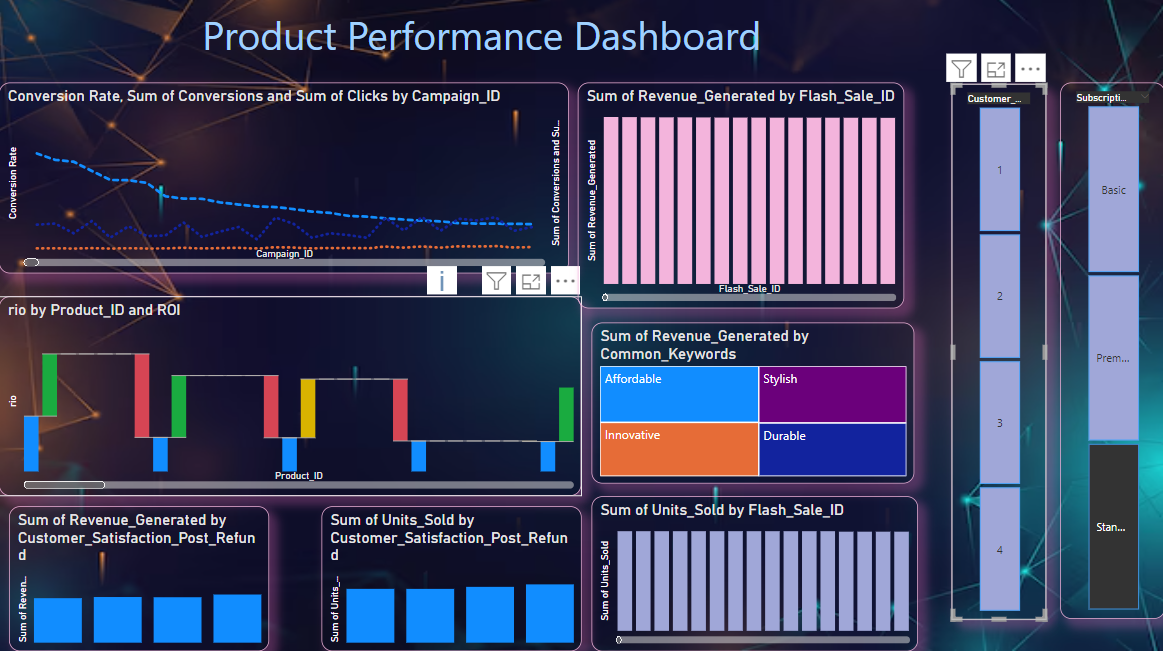

Layout of this report page (visuals, bound fields, positions):
{"tool":"powerbi","page":{"name":"Page 1","canvas":[1280,720],"ordinal":0},"visuals":[{"type":"lineChart","fields":{"Category":["marketing_and_product_performance.Campaign_ID"],"Y":["marketing_and_product_performance.Conversion Rate"],"Y2":["Sum(marketing_and_product_performance.Conversions)","Sum(marketing_and_product_performance.Clicks)"]},"box":[0,96.1,625.7,209.9],"z":0},{"type":"waterfallChart","fields":{"Category":["marketing_and_product_performance.Product_ID"],"Y":["marketing_and_product_performance.rio"],"Breakdown":["marketing_and_product_performance.ROI"]},"box":[0,330.7,639.5,219.6],"z":1000},{"type":"columnChart","fields":{"Y":["Sum(marketing_and_product_performance.Revenue_Generated)"],"Category":["marketing_and_product_performance.Customer_Satisfaction_Post_Refund"]},"box":[11,561.2,285.4,159.2],"z":2000},{"type":"columnChart","fields":{"Category":["marketing_and_product_performance.Customer_Satisfaction_Post_Refund"],"Y":["Sum(marketing_and_product_performance.Units_Sold)"]},"box":[354,561.2,285.4,159.2],"z":3000},{"type":"clusteredColumnChart","fields":{"Category":["marketing_and_product_performance.Flash_Sale_ID"],"Y":["Sum(marketing_and_product_performance.Revenue_Generated)"]},"box":[635.3,96.1,358.1,248.4],"z":4000},{"type":"treemap","fields":{"Group":["marketing_and_product_performance.Common_Keywords"],"Values":["Sum(marketing_and_product_performance.Revenue_Generated)"]},"box":[650.4,359.5,354,177],"z":5000},{"type":"slicer","fields":{"Values":["marketing_and_product_performance.Subscription_Tier"]},"box":[1165,96.1,115.3,588.7],"z":6000},{"type":"clusteredColumnChart","fields":{"Category":["marketing_and_product_performance.Flash_Sale_ID"],"Y":["Sum(marketing_and_product_performance.Units_Sold)"]},"box":[650.4,550.3,358.1,170.2],"z":7000},{"type":"textbox","box":[218.2,9.6,675.1,75.5],"z":8000},{"type":"slicer","fields":{"Values":["marketing_and_product_performance.Customer_Satisfaction_Post_Refund"]},"box":[1045.6,97.4,104.3,588.7],"z":8001}]}

Visuals, with their boxes in screenshot pixels (x1, y1, x2, y2), scaled from the page's 1280x720 canvas onto the 1163x651 screenshot:
lineChart - marketing_and_product_performance.Campaign_ID x marketing_and_product_performance.Conversion Rate: [0,87,569,277]
waterfallChart - marketing_and_product_performance.Product_ID x marketing_and_product_performance.rio: [0,299,581,498]
columnChart - Sum(marketing_and_product_performance.Revenue_Generated) x marketing_and_product_performance.Customer_Satisfaction_Post_Refund: [10,507,269,650]
columnChart - marketing_and_product_performance.Customer_Satisfaction_Post_Refund x Sum(marketing_and_product_performance.Units_Sold): [322,507,581,650]
clusteredColumnChart - marketing_and_product_performance.Flash_Sale_ID x Sum(marketing_and_product_performance.Revenue_Generated): [577,87,903,311]
treemap - marketing_and_product_performance.Common_Keywords x Sum(marketing_and_product_performance.Revenue_Generated): [591,325,913,485]
slicer - marketing_and_product_performance.Subscription_Tier: [1059,87,1162,619]
clusteredColumnChart - marketing_and_product_performance.Flash_Sale_ID x Sum(marketing_and_product_performance.Units_Sold): [591,498,916,650]
textbox: [198,9,812,77]
slicer - marketing_and_product_performance.Customer_Satisfaction_Post_Refund: [950,88,1045,620]
